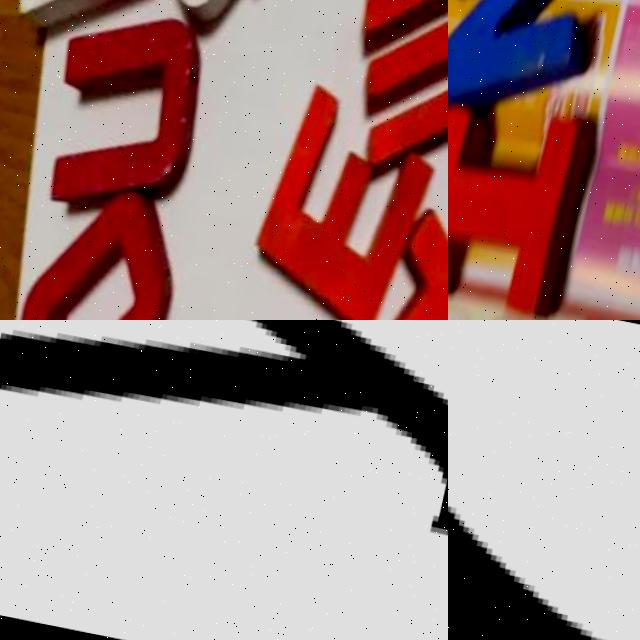7: (448, 320, 640, 640)
E: (244, 83, 448, 320)
I: (448, 84, 611, 320), (298, 206, 448, 320)
N: (448, 0, 621, 136)
O: (2, 182, 180, 320)
U: (40, 10, 216, 215)
W: (342, 0, 448, 170)
Y: (0, 320, 448, 558)
